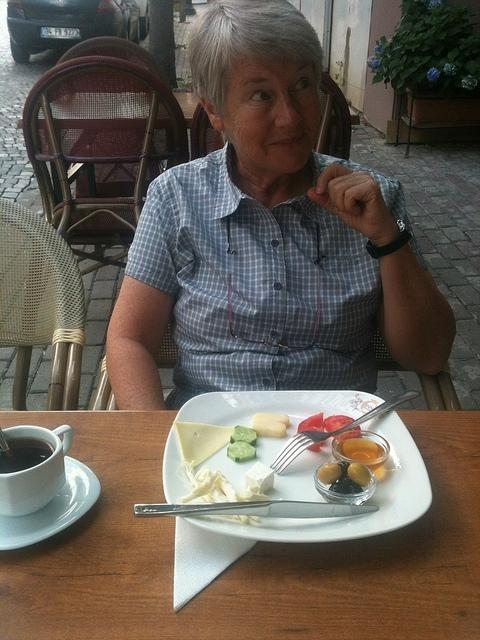car: (7, 0, 145, 65)
